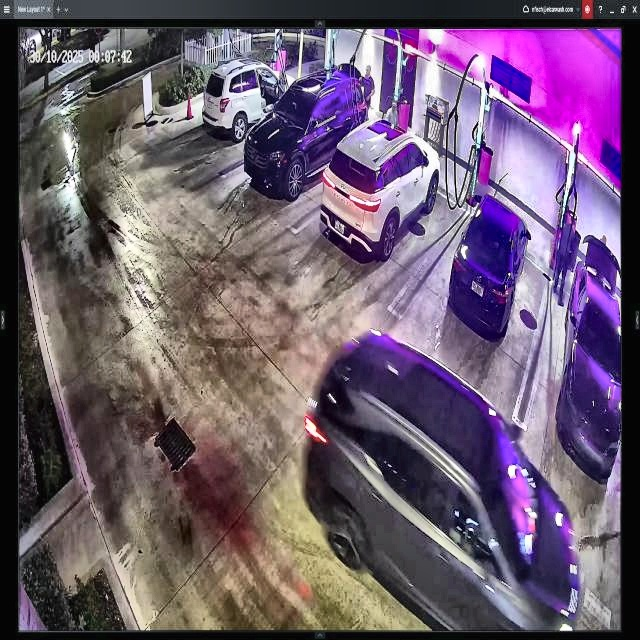Car: (303, 333, 574, 640), (319, 119, 440, 260), (244, 68, 366, 194), (451, 196, 529, 339), (204, 65, 298, 137)
